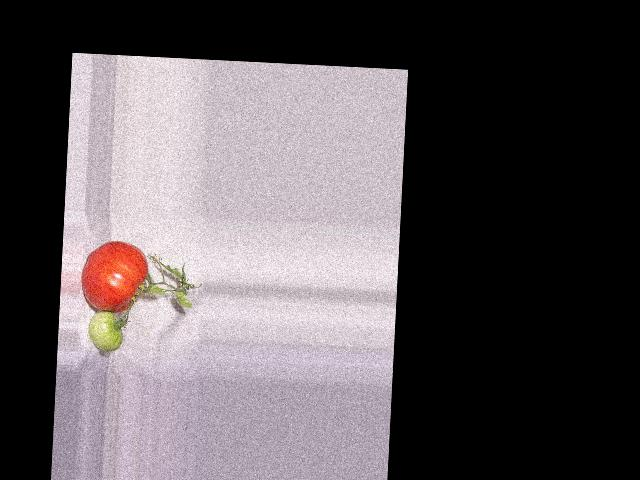tomato: (80, 239, 149, 314)
